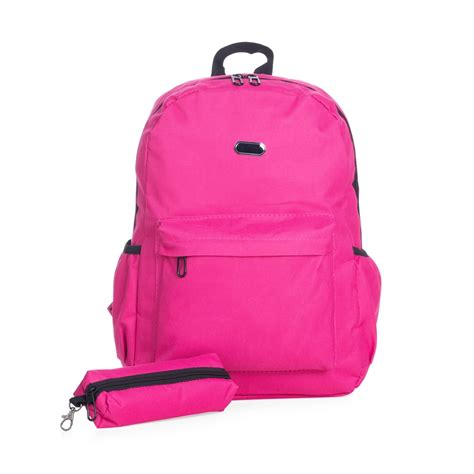nylon: (69, 74, 382, 427)
